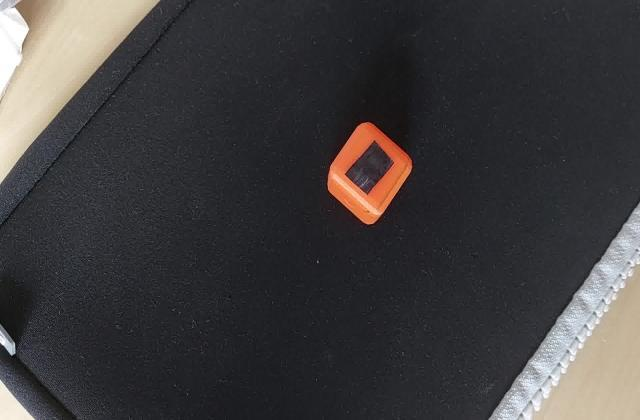black: (338, 142, 398, 196)
sticker: (323, 120, 414, 228)
